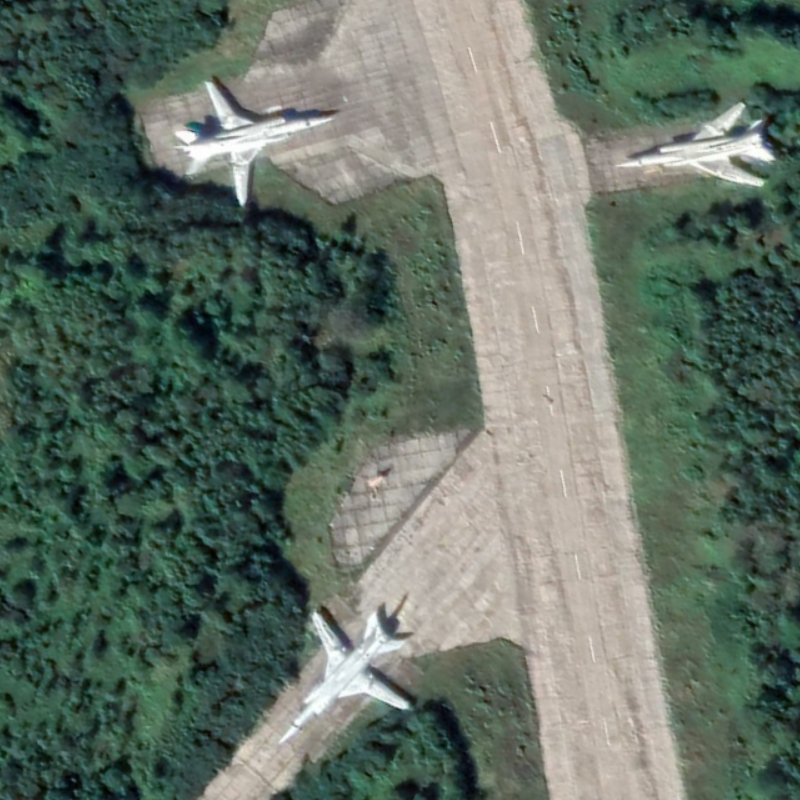A12: (169, 77, 338, 209), (274, 606, 416, 745), (610, 97, 779, 192)
